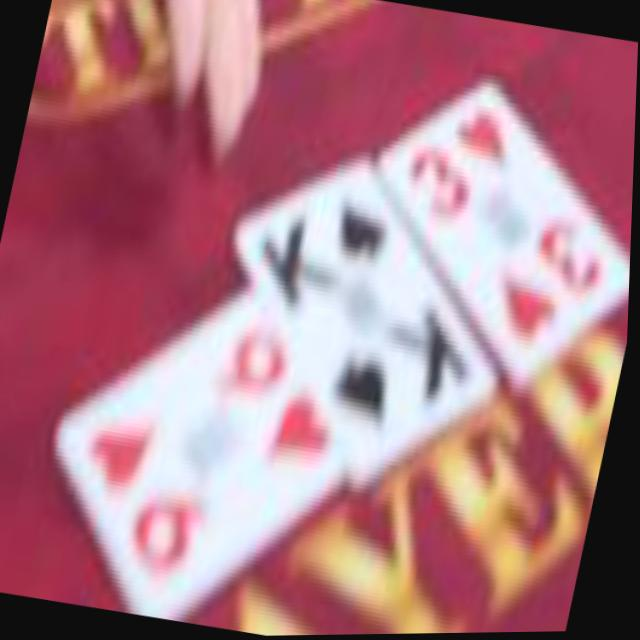Card-3: (379, 79, 632, 399)
Card-9: (58, 283, 353, 615)
Card-K: (236, 155, 500, 495)
